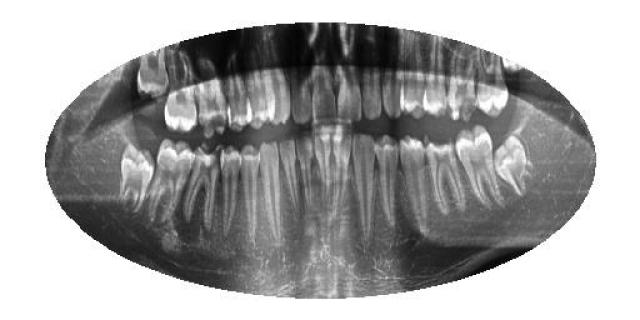Cavity: (423, 131, 465, 214)
Restorations: (492, 135, 536, 196)
